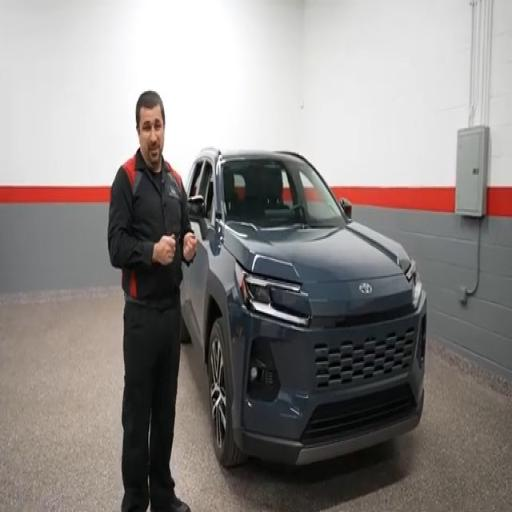bumper: (231, 293, 426, 465), (235, 392, 423, 465)
door: (188, 158, 215, 342), (181, 262, 200, 338)
emblem: (360, 284, 372, 294)
fog_light: (250, 366, 258, 381)
grille: (301, 384, 415, 445), (315, 328, 415, 388)
headlight: (236, 264, 311, 327), (406, 261, 422, 307)
hood: (224, 222, 407, 284)
side_mirror: (188, 195, 205, 221), (340, 198, 351, 219)
wheel: (208, 319, 245, 469), (180, 315, 191, 344)
window: (188, 158, 214, 220)
windshield: (222, 157, 344, 227)
